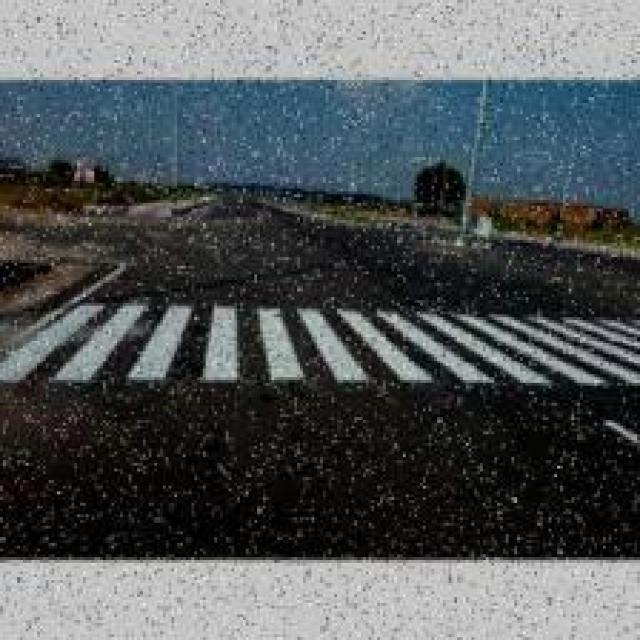crosswalk: (0, 294, 640, 398)
